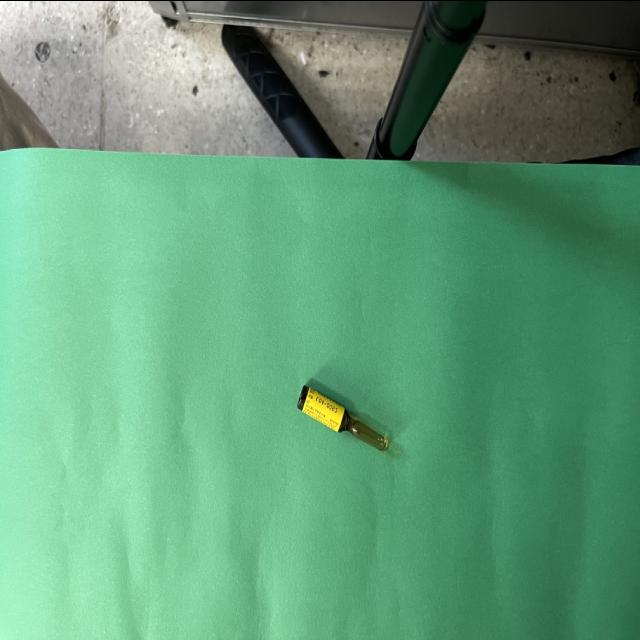Ampoules: (298, 385, 388, 449)
